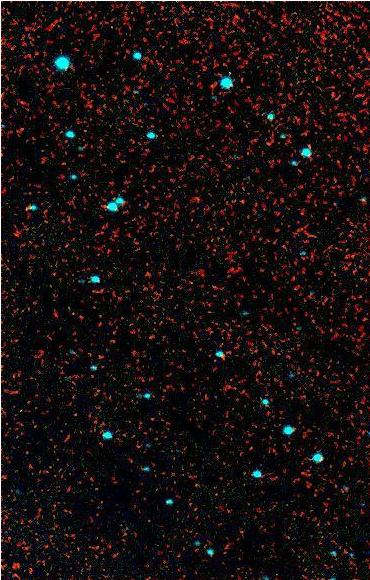star: (299, 133, 329, 163)
